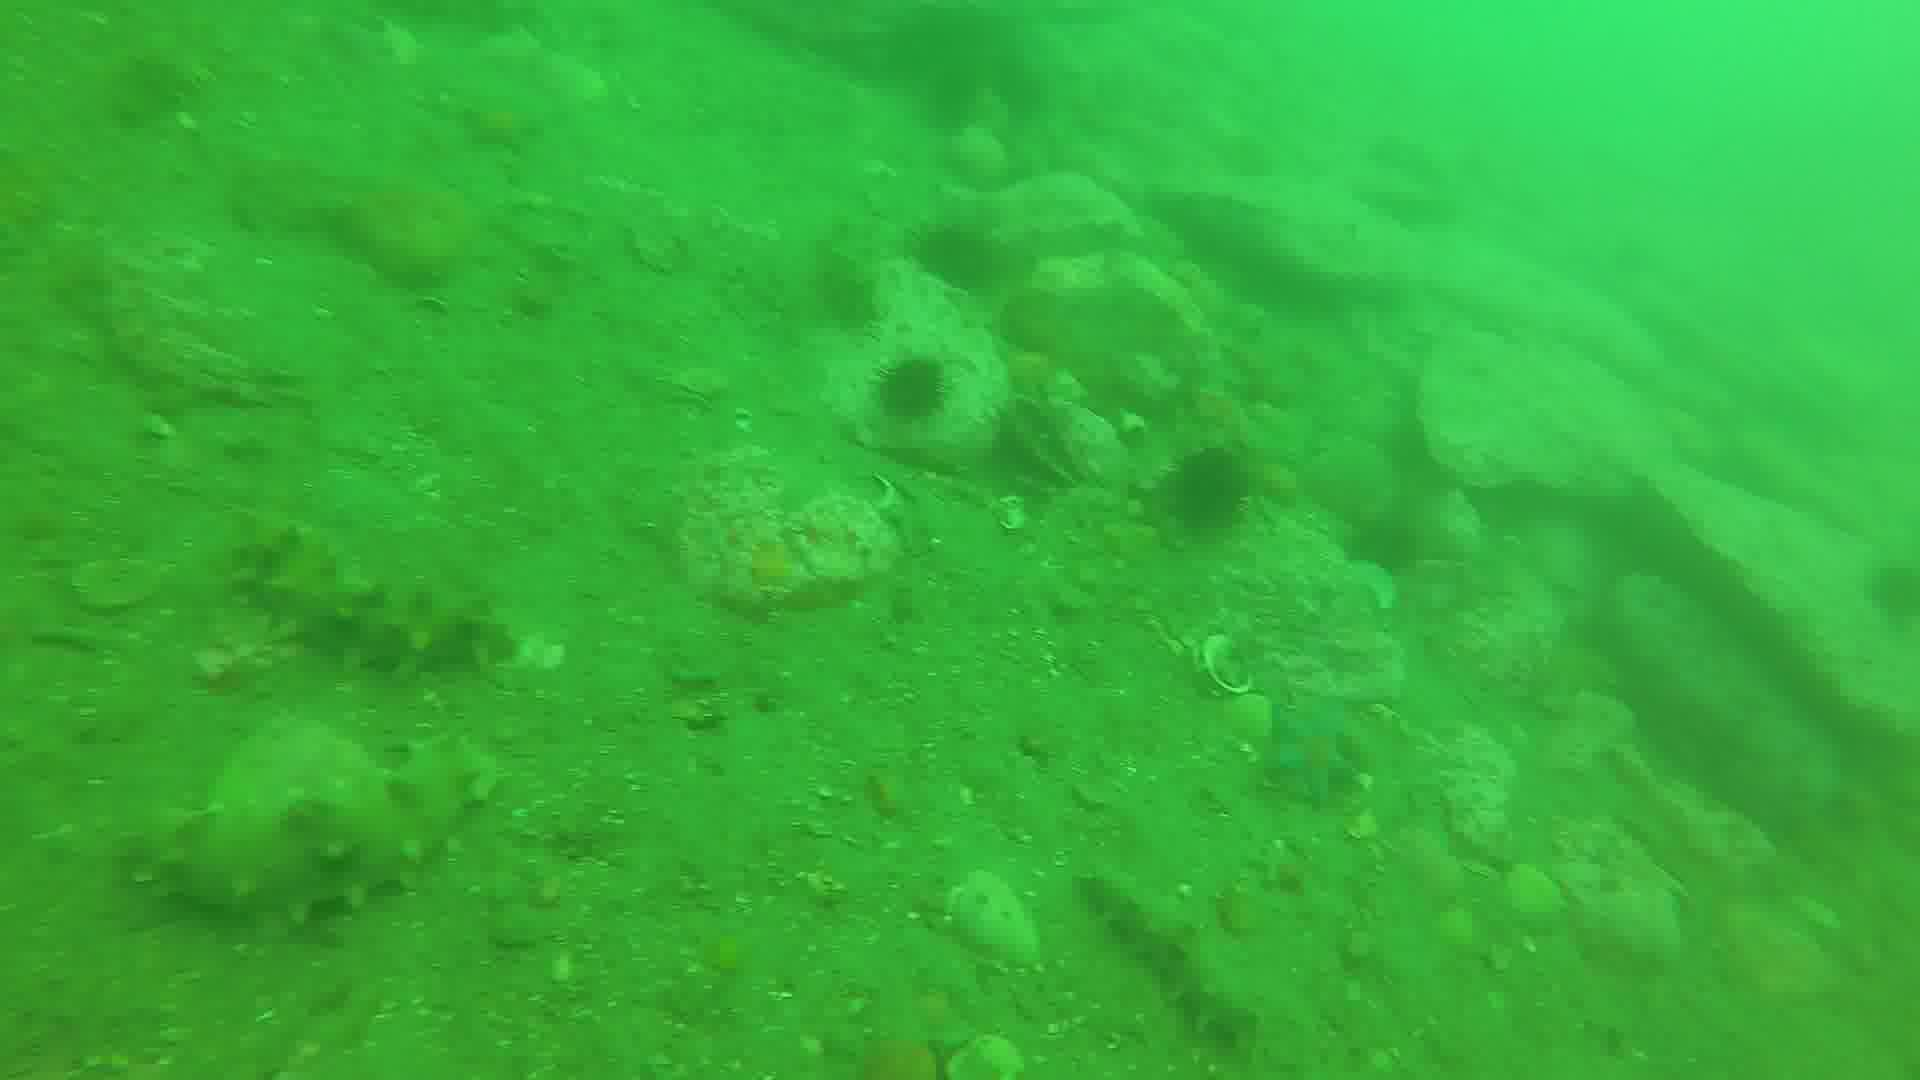echinus: (1164, 443, 1247, 539), (1341, 505, 1419, 582), (911, 219, 992, 291), (881, 353, 944, 426)
holothurian: (123, 741, 508, 916), (236, 527, 513, 688), (1088, 872, 1254, 1052)
starfish: (1262, 709, 1356, 807)
